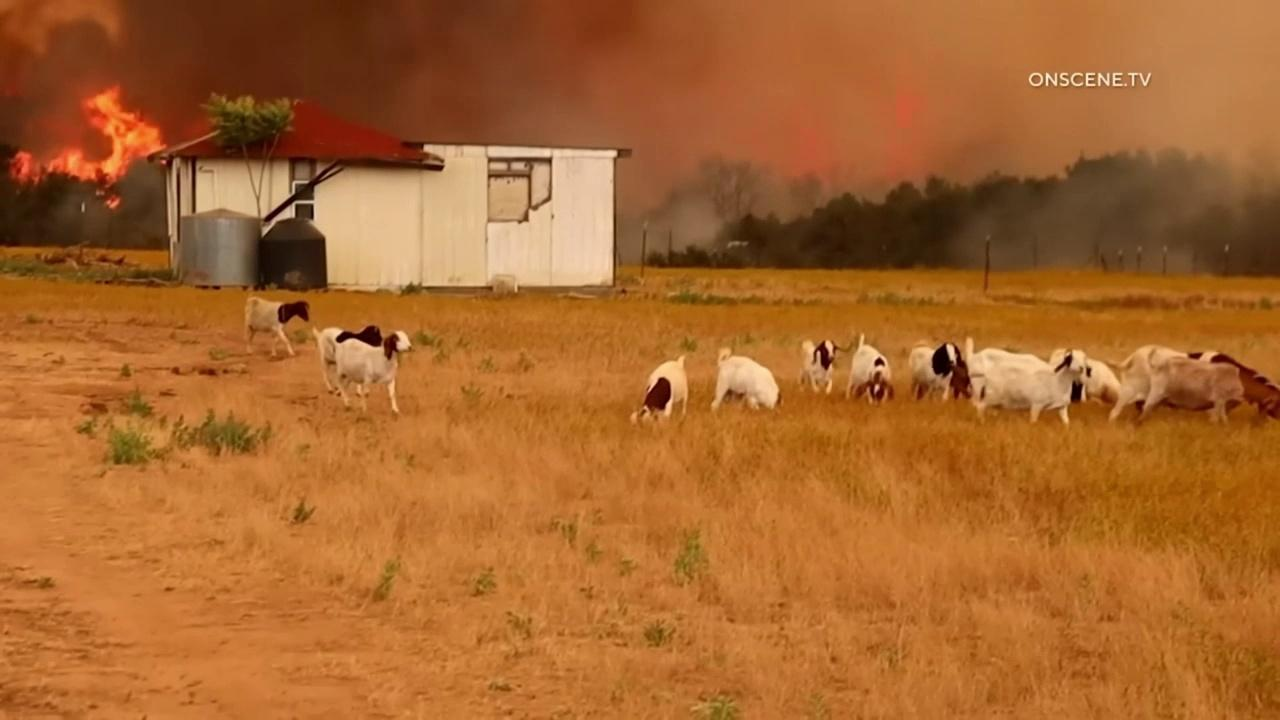fire: (6, 81, 169, 213), (890, 88, 925, 131)
smoke: (0, 0, 1280, 278)
